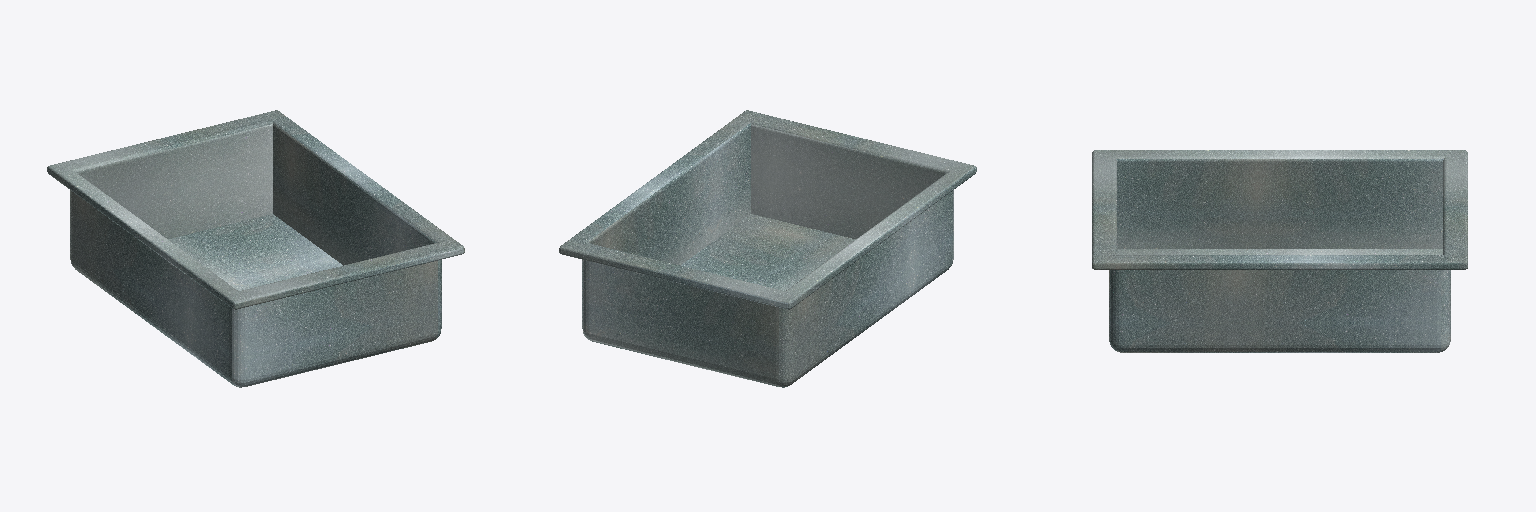
3 views of the same model, side by side, from view 1: azimuth 30°, elevation 25°; view 2: azimuth 150°, elevation 25°; view 3: azimuth 270°, elevation 25° (orthographic).
Visible parts, largest first — view 1: Cube; view 2: Cube; view 3: Cube.
Boxes of the visible parts, box(x1,y1,x2,y2) form: Cube: box(47, 110, 464, 387); Cube: box(559, 110, 976, 387); Cube: box(1092, 150, 1467, 352).
Bounding box in the file's own units: 1.56 × 0.6471 × 2.2.
Materials: 1 (1 with a texture image).